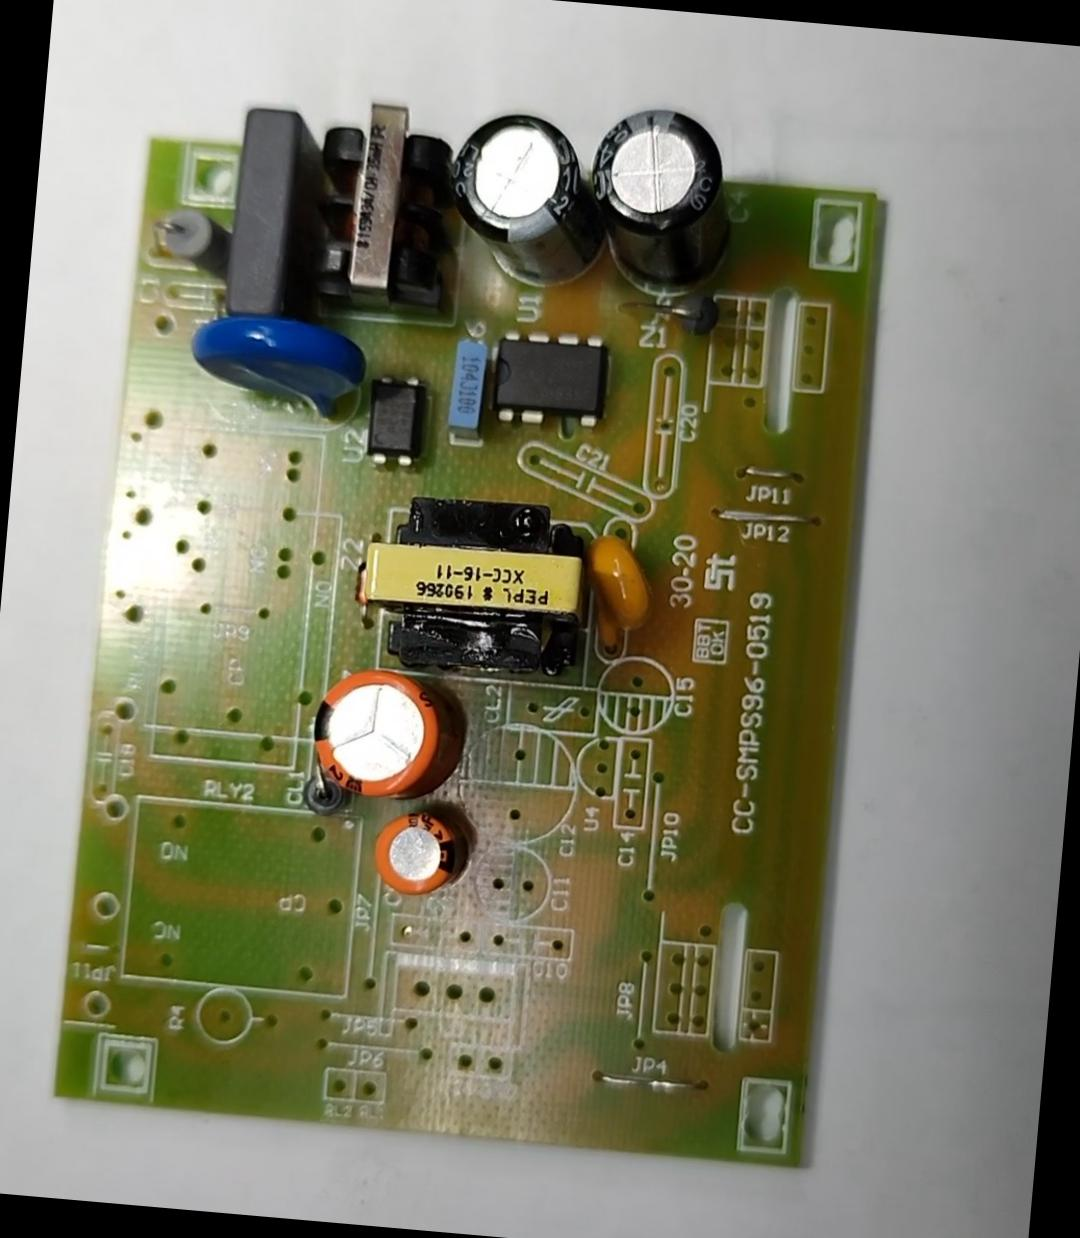Cap1: (299, 658, 443, 816)
Cap2: (365, 799, 467, 898)
Cap3: (436, 100, 600, 289)
Cap4: (579, 100, 734, 300)
MOSFET: (491, 322, 609, 432)
Mov: (179, 305, 366, 430)
Resistor: (151, 194, 229, 288)
Transformer: (348, 478, 593, 680), (301, 94, 459, 312)
